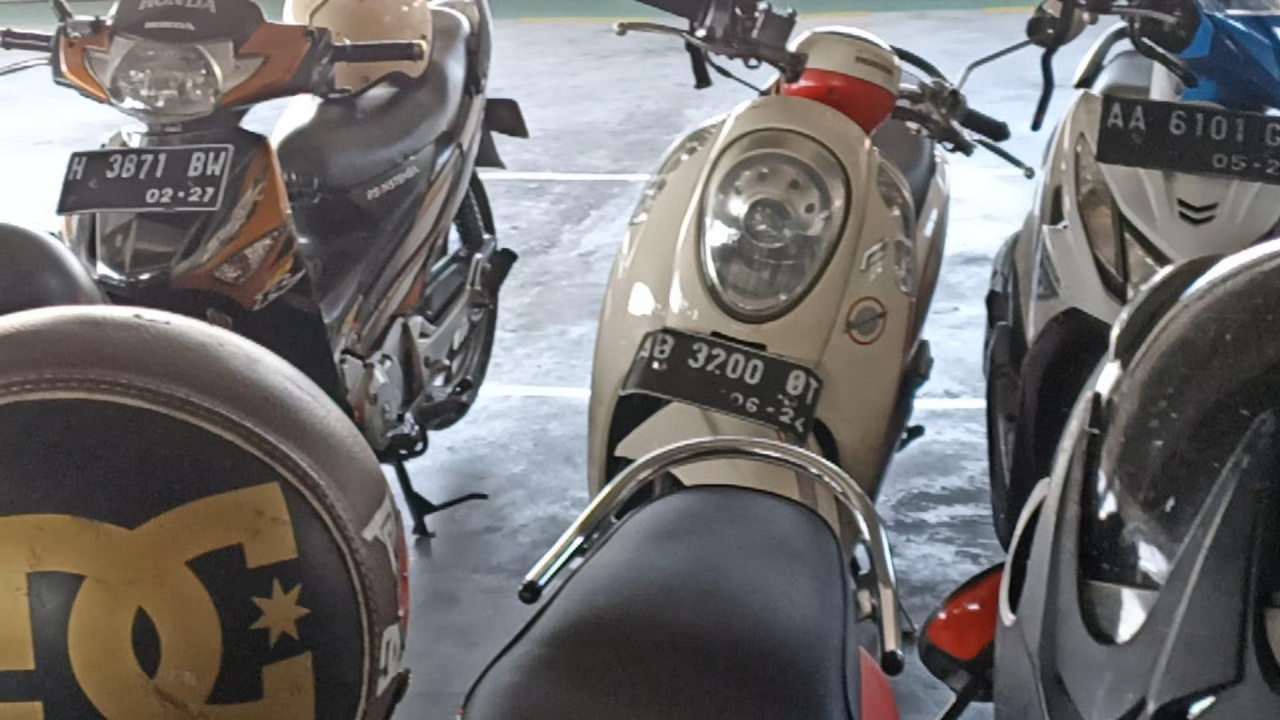plate: (619, 326, 824, 450), (55, 144, 235, 213)
